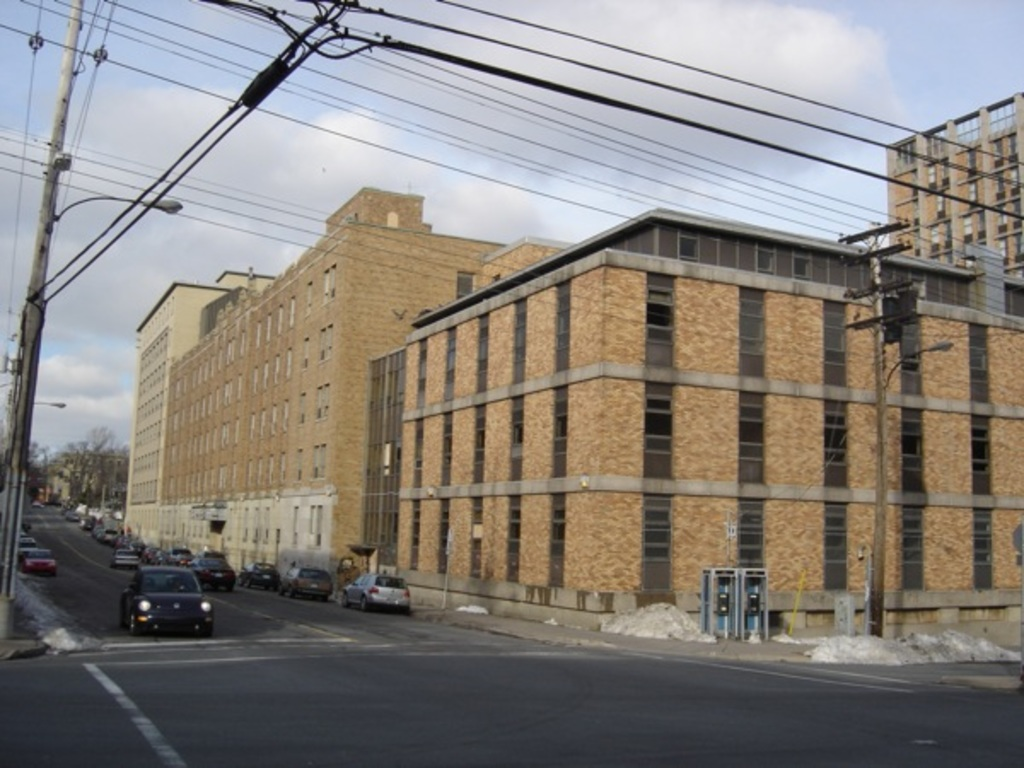Car: (122, 566, 215, 636), (343, 573, 411, 610), (281, 570, 332, 593), (192, 558, 237, 583), (18, 552, 59, 575), (238, 564, 276, 583), (114, 547, 139, 564), (168, 549, 189, 563), (97, 527, 114, 541)
